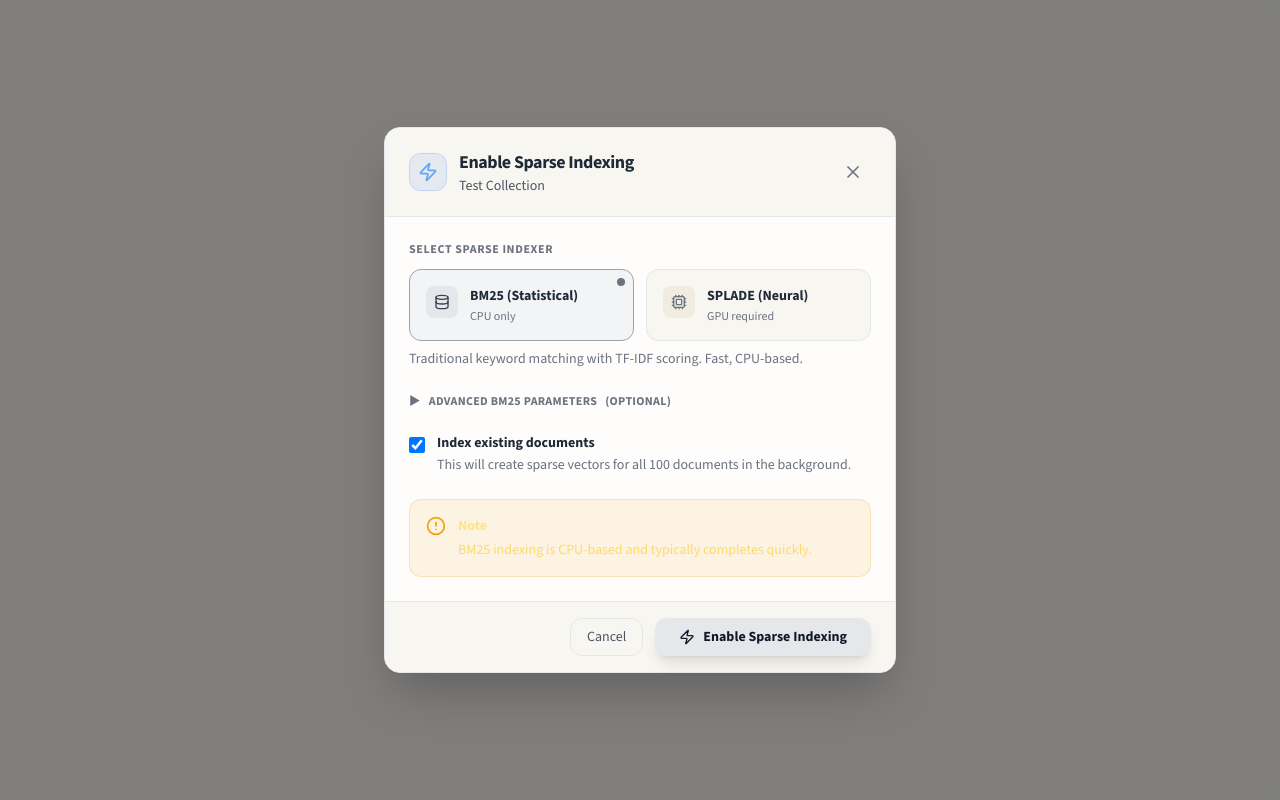
Test case: SparseIndexConfigModal › BM25 advanced parameters › updates k1 value when slider changes
Step 1. Click the button "▶ Advanced BM25 Parameters (optional)" → [540, 401], box [409,393,671,409]
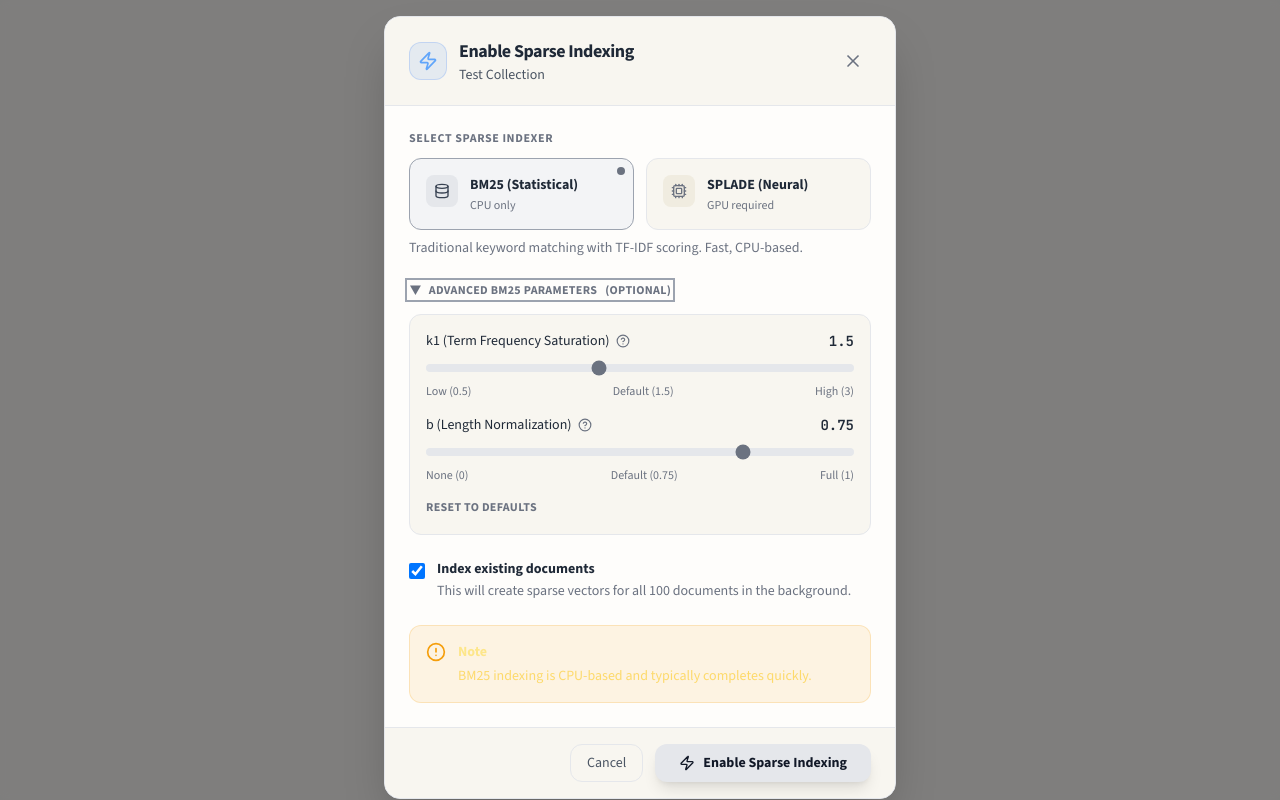
# Find the k1 slider by its container and input type
Step 2. Set the slider below "k1 (Term Frequency Saturation)" to "2.5" → [764, 368], box [426,364,854,372]
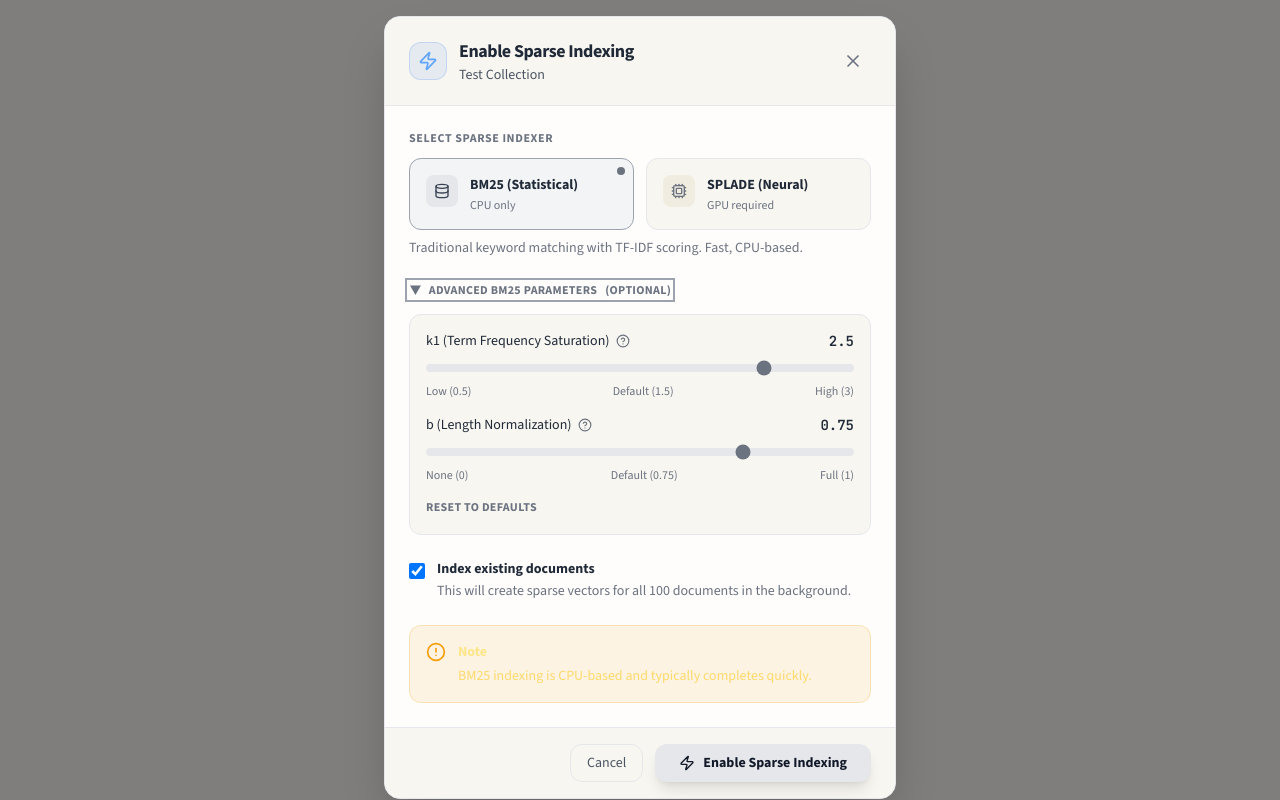
Check: the text "2.5" is shown, box [829,331,854,351]
